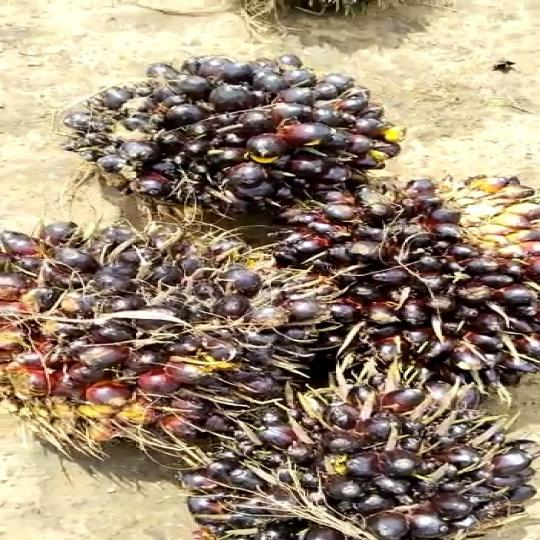mentah: (0, 211, 374, 469), (179, 358, 540, 534), (63, 56, 410, 215), (285, 176, 540, 385)
